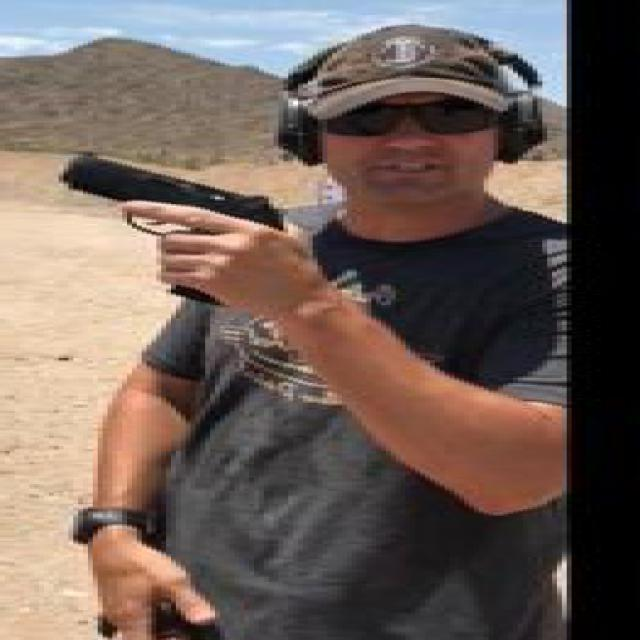Gun: (54, 147, 288, 300)
